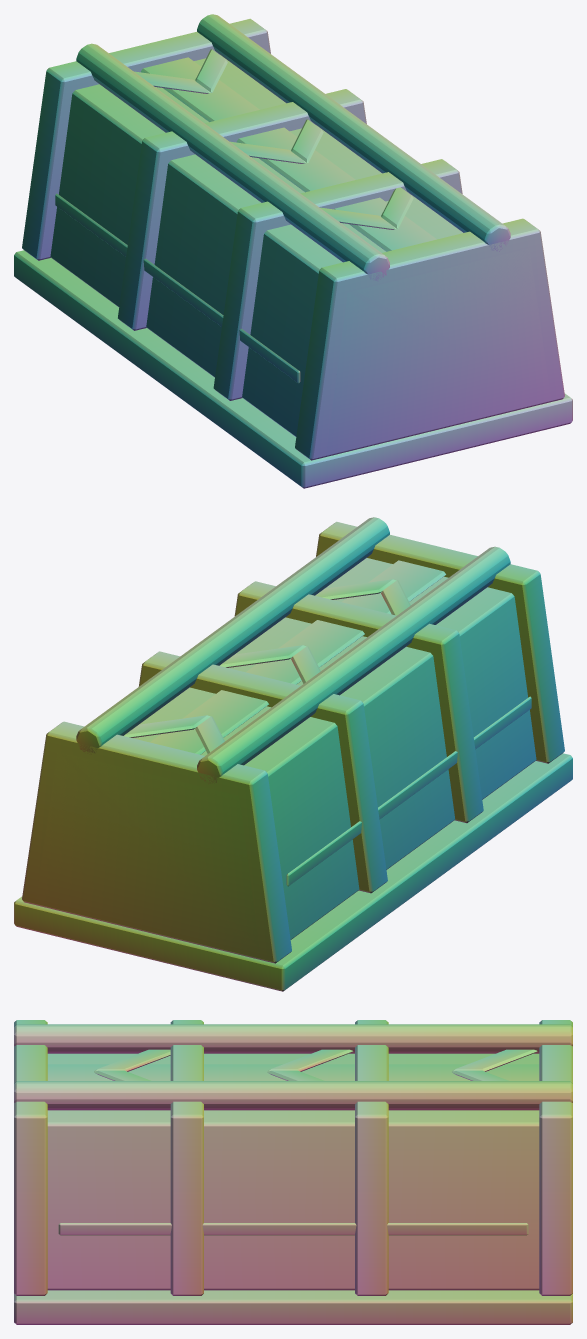
File: connector_rig.glb
3 renders of one model, top to bottom at view 1: azimuth 30°, elevation 25°; view 2: azimuth 150°, elevation 25°; view 3: azimuth 270°, elevation 25°, orthographic. The views are drawn at different scales.
Parts seen in each view (by area): view 1: body; view 2: body; view 3: body.
Part boxes in pixels (x1,y1,x2,y2): body: [14, 14, 572, 488]; body: [14, 517, 572, 991]; body: [14, 1020, 572, 1324].
Bounding box in the file's own units: 5.4 × 4.11 × 10.
